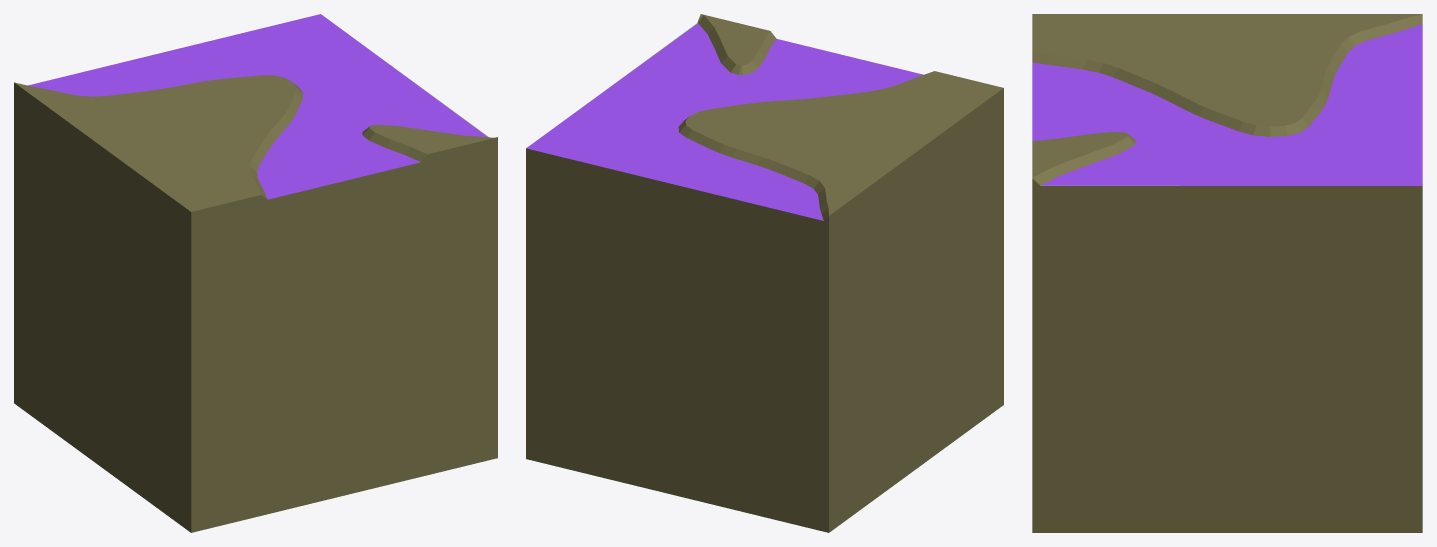
Rendered from tile_toxic_5e_01.fbx.
The picture shows the model from 3 angles, left to right: view 1: azimuth 30°, elevation 25°; view 2: azimuth 150°, elevation 25°; view 3: azimuth 270°, elevation 25°; orthographic projection. The views are drawn at different scales.
Visible parts, largest first — view 1: tile_toxic_5e_01; view 2: tile_toxic_5e_01; view 3: tile_toxic_5e_01.
Part boxes in pixels (x1,y1,x2,y2): tile_toxic_5e_01: (14,14,497,532); tile_toxic_5e_01: (526,14,1003,532); tile_toxic_5e_01: (1032,14,1422,532).
Bounding box in the file's own units: 100 × 100 × 100.
